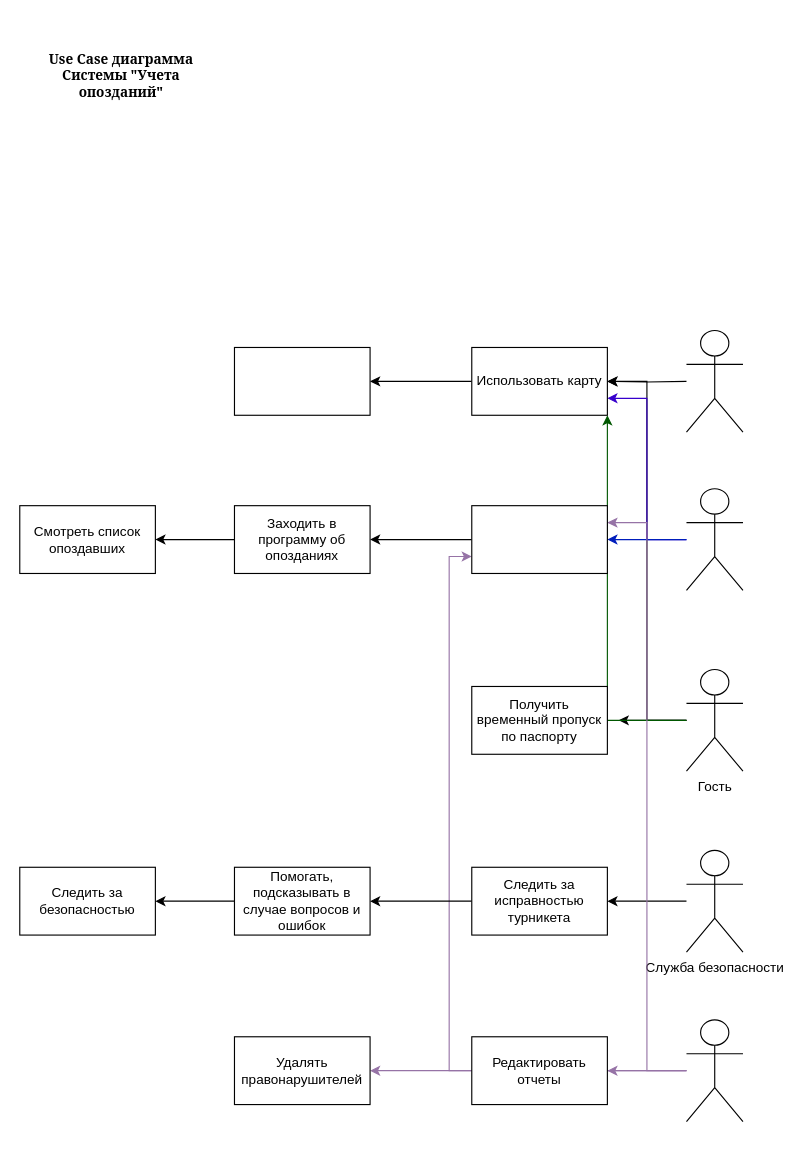
This 803x1164 diagram has some shape labels left out. The centre of each missing label's shape, as x and y in pixels:
Отдел кадров: (714,539)
Получать отчеты об опоздании: (539,539)
Пользоваться турникетом: (301,380)
Руководитель: (714,1070)
Сотрудник: (714,380)
